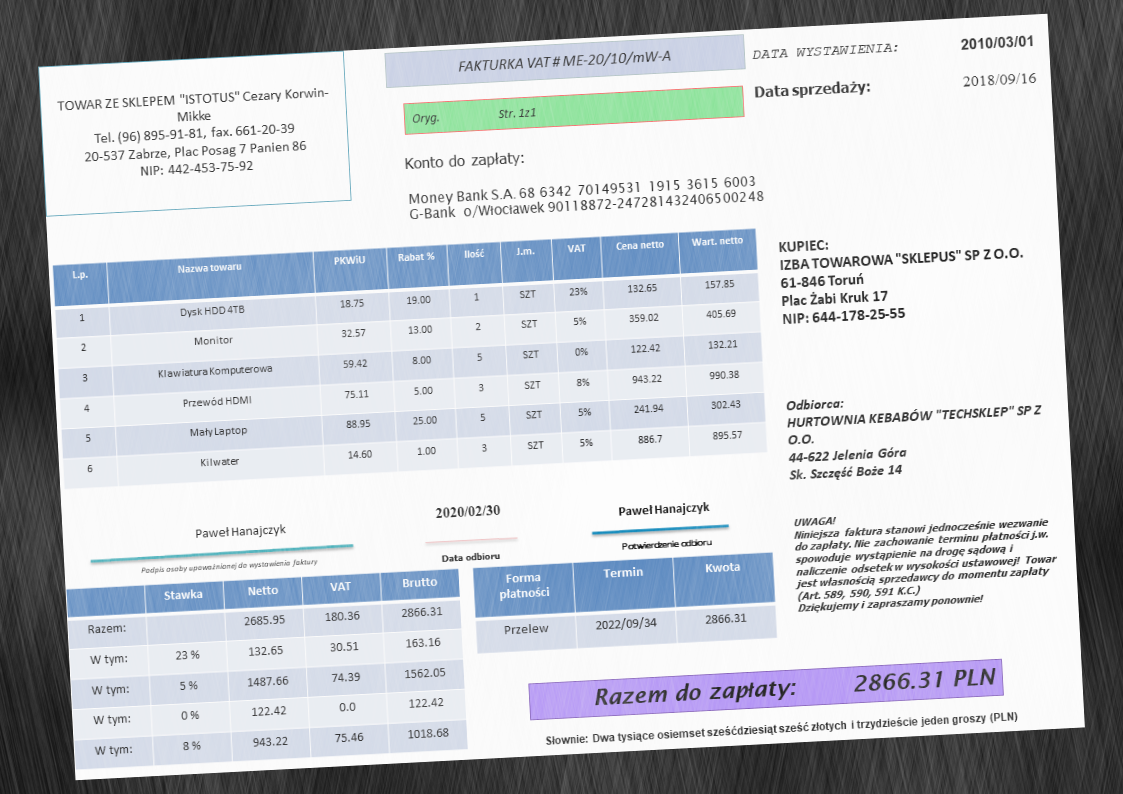Table: (50, 225, 769, 491), (66, 567, 470, 771), (472, 551, 778, 655)
TextBox: (792, 501, 1064, 616), (55, 85, 334, 183), (783, 383, 1045, 484), (775, 224, 1028, 328), (590, 662, 1000, 714), (543, 707, 1021, 751), (405, 173, 767, 222), (456, 47, 675, 76), (137, 555, 319, 578), (751, 38, 901, 64), (401, 148, 526, 175), (752, 77, 873, 103), (410, 105, 538, 127), (615, 498, 712, 522), (192, 519, 288, 542), (618, 535, 715, 554), (960, 69, 1040, 91), (957, 32, 1034, 54), (433, 501, 502, 523), (439, 549, 502, 565)
